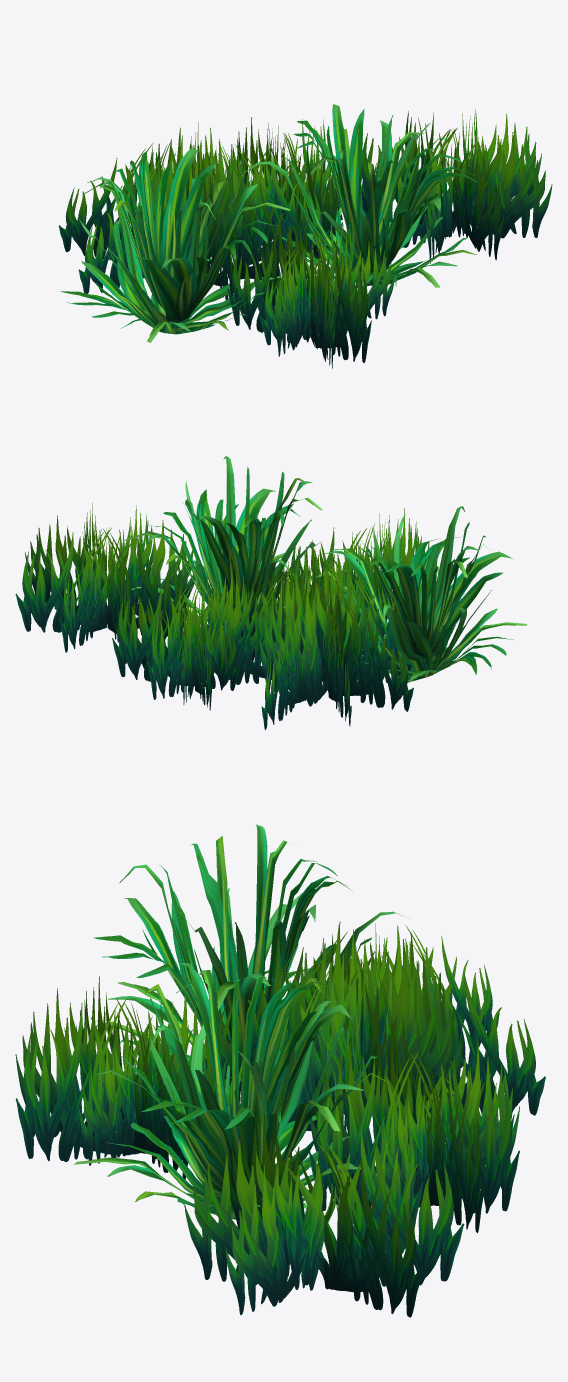
Rendered from Grass.fbx.
3 renders of one model, top to bottom at view 1: azimuth 30°, elevation 25°; view 2: azimuth 150°, elevation 25°; view 3: azimuth 270°, elevation 25°, orthographic. The views are drawn at different scales.
Visible parts, largest first — view 1: pPlane5, pPlane3, pPlane6, pPlane1, pPlane10, pPlane24, pPlane16, pPlane8, pPlane4, pPlane27, pPlane20, pPlane26 (+15 smaller); view 2: pPlane3, pPlane9, pPlane5, pPlane6, pPlane19, pPlane7, pPlane1, pPlane17, pPlane12, pPlane21, pPlane8, pPlane13 (+13 smaller); view 3: pPlane3, pPlane8, pPlane10, pPlane5, pPlane1, pPlane9, pPlane24, pPlane13, pPlane22, pPlane15, pPlane18, pPlane6 (+12 smaller).
Part boxes in pixels (left/top/right/bottom): pPlane5: left=82, top=148, right=237, bottom=311; pPlane3: left=292, top=104, right=449, bottom=262; pPlane6: left=79, top=177, right=290, bottom=327; pPlane1: left=243, top=120, right=478, bottom=281; pPlane10: left=361, top=122, right=552, bottom=238; pPlane24: left=257, top=215, right=371, bottom=362; pPlane16: left=58, top=135, right=242, bottom=260; pPlane8: left=401, top=111, right=504, bottom=260; pPlane4: left=60, top=256, right=281, bottom=342; pPlane27: left=227, top=242, right=371, bottom=334; pPlane20: left=153, top=135, right=329, bottom=267; pPlane26: left=272, top=217, right=357, bottom=356; pPlane3: left=183, top=456, right=322, bottom=609; pPlane9: left=15, top=520, right=195, bottom=632; pPlane5: left=357, top=506, right=489, bottom=660; pPlane6: left=316, top=536, right=512, bottom=672; pPlane19: left=256, top=557, right=413, bottom=711; pPlane7: left=25, top=515, right=189, bottom=639; pPlane1: left=125, top=488, right=321, bottom=618; pPlane17: left=273, top=576, right=425, bottom=708; pPlane12: left=112, top=580, right=258, bottom=681; pPlane21: left=200, top=554, right=378, bottom=684; pPlane8: left=60, top=505, right=154, bottom=652; pPlane13: left=147, top=563, right=249, bottom=699; pPlane3: left=144, top=963, right=352, bottom=1192; pPlane8: left=184, top=1139, right=464, bottom=1286; pPlane10: left=225, top=1126, right=423, bottom=1314; pPlane5: left=119, top=824, right=351, bottom=1061; pPlane1: left=93, top=1001, right=389, bottom=1201; pPlane9: left=229, top=1114, right=423, bottom=1317; pPlane24: left=15, top=988, right=227, bottom=1161; pPlane13: left=310, top=1040, right=519, bottom=1213; pPlane22: left=205, top=939, right=461, bottom=1120; pPlane15: left=309, top=1041, right=519, bottom=1210; pPlane18: left=283, top=924, right=545, bottom=1115; pPlane6: left=93, top=888, right=411, bottom=1074.
Bounding box in the file's own units: 30.8 × 13.98 × 19.52.
2 materials, 2 textured.
